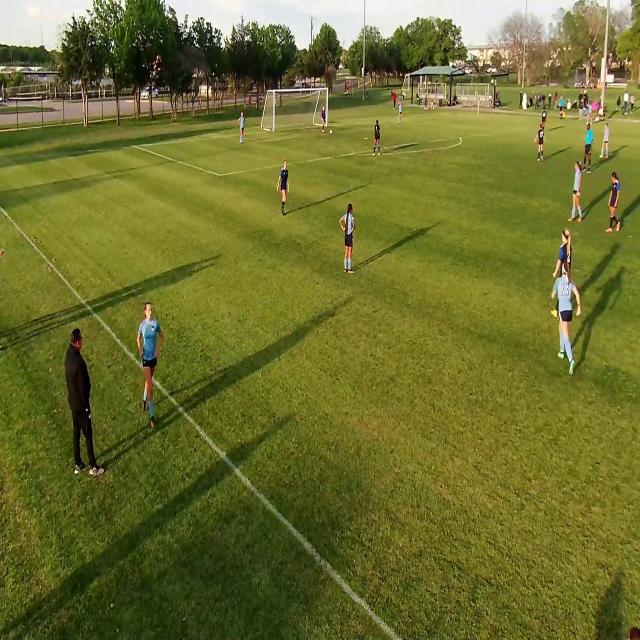ball: (329, 128, 333, 137)
team1: (607, 170, 624, 235), (552, 225, 572, 278), (276, 160, 290, 218), (538, 122, 547, 162), (373, 117, 382, 155), (541, 106, 547, 125)
team2: (554, 262, 586, 372), (138, 305, 164, 419), (342, 203, 357, 275), (572, 159, 585, 221), (601, 120, 610, 162), (238, 110, 246, 144), (399, 100, 405, 126)
